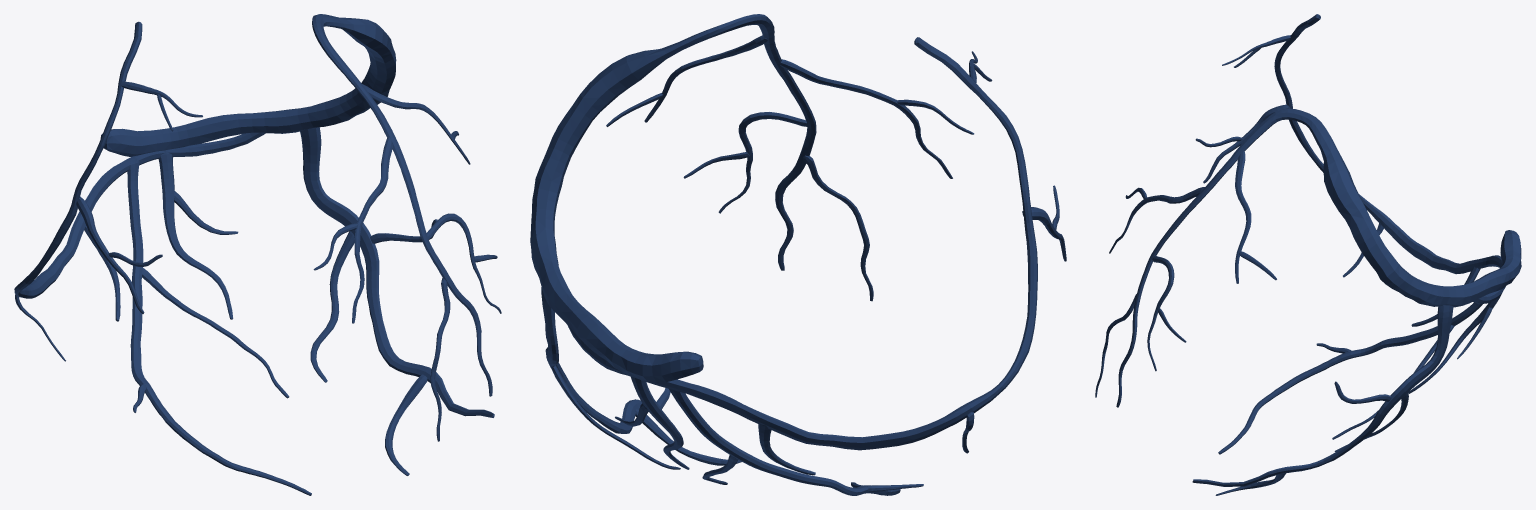
Rendered from Venas_coronarias.FBX.
3 renders of one model, left to right at view 1: azimuth 30°, elevation 25°; view 2: azimuth 150°, elevation 25°; view 3: azimuth 270°, elevation 25°, orthographic. The views are drawn at different scales.
Parts seen in each view (by area): view 1: CS_Heart_7; view 2: CS_Heart_7; view 3: CS_Heart_7.
Part boxes in pixels (box(x1,y1,x2,y2)): CS_Heart_7: box(14, 14, 501, 495); CS_Heart_7: box(530, 14, 1066, 495); CS_Heart_7: box(1095, 14, 1521, 495).
Bounding box in the file's own units: 18.57 × 19.78 × 19.39.
